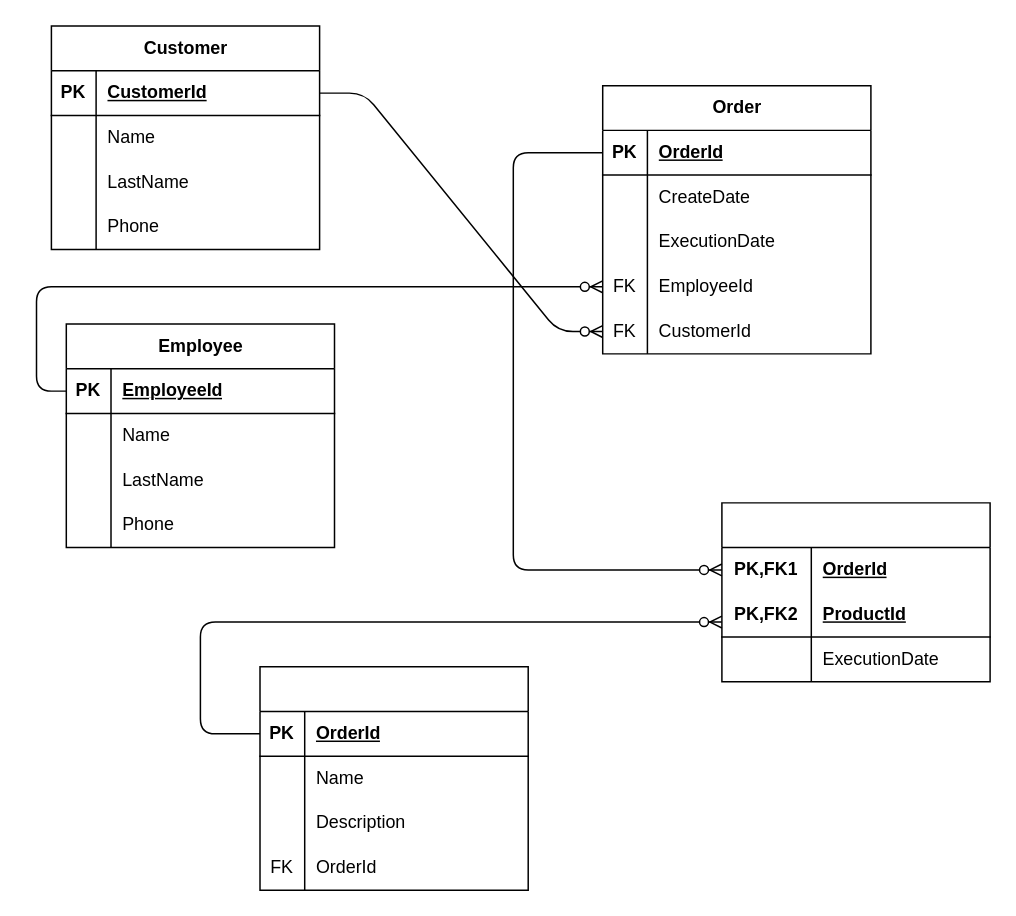
Image size: 1016x916. Some labels were removed from this diagram. The box of each missing label's shape, as (x1, y1, x2, y2) in pixels:
OrderProduct: (720, 501, 990, 682)
Product: (259, 665, 528, 890)
